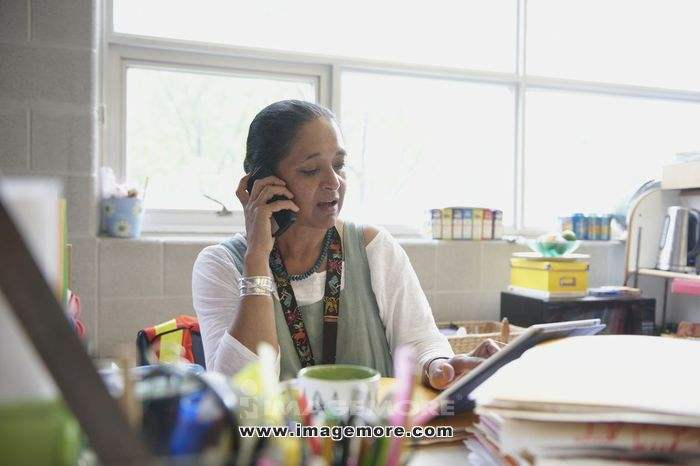talk: (233, 141, 348, 254)
